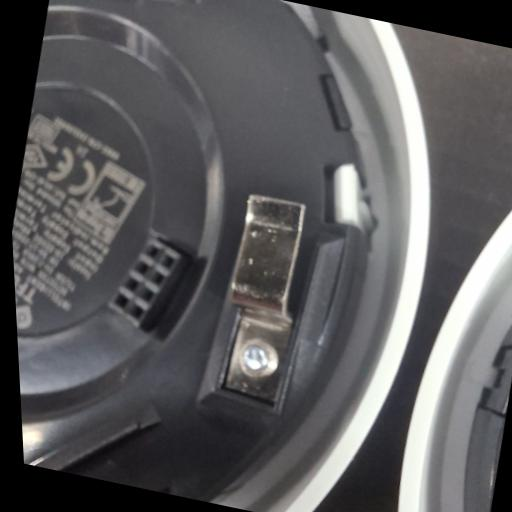yaysiz: (197, 186, 327, 411)
